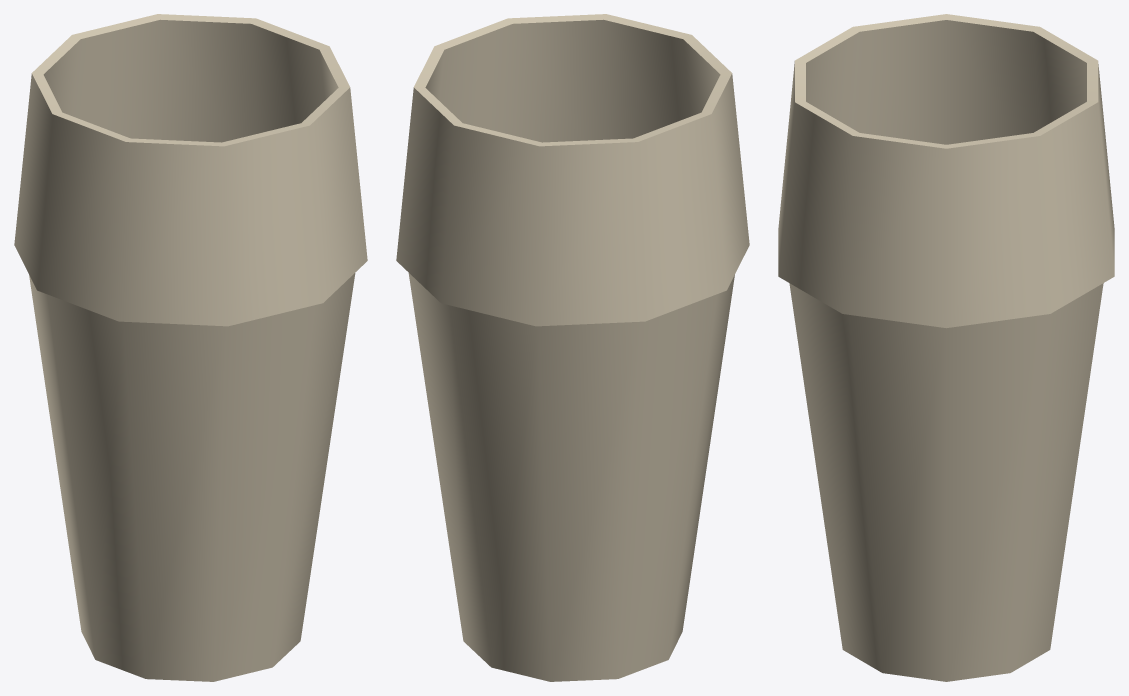
File: Vaso.fbx
3 renders of one model, left to right at view 1: azimuth 30°, elevation 25°; view 2: azimuth 150°, elevation 25°; view 3: azimuth 270°, elevation 25°, orthographic.
Parts seen in each view (by area): view 1: vaso; view 2: vaso; view 3: vaso.
Boxes of the visible parts, x1=… form: vaso: x1=14, y1=14, x2=367, y2=681; vaso: x1=396, y1=14, x2=749, y2=681; vaso: x1=778, y1=14, x2=1114, y2=681.
Size of the model in its own units: 2.72 by 4.7 by 2.59.
